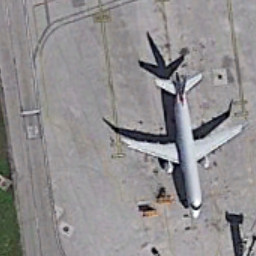Airplane: (105, 57, 252, 225)
